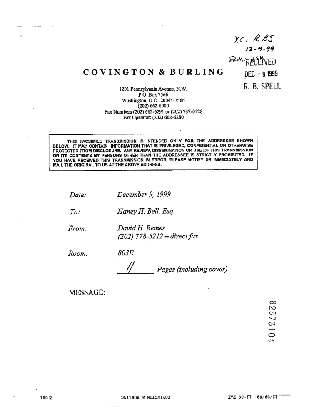textline: (116, 260, 154, 275)
